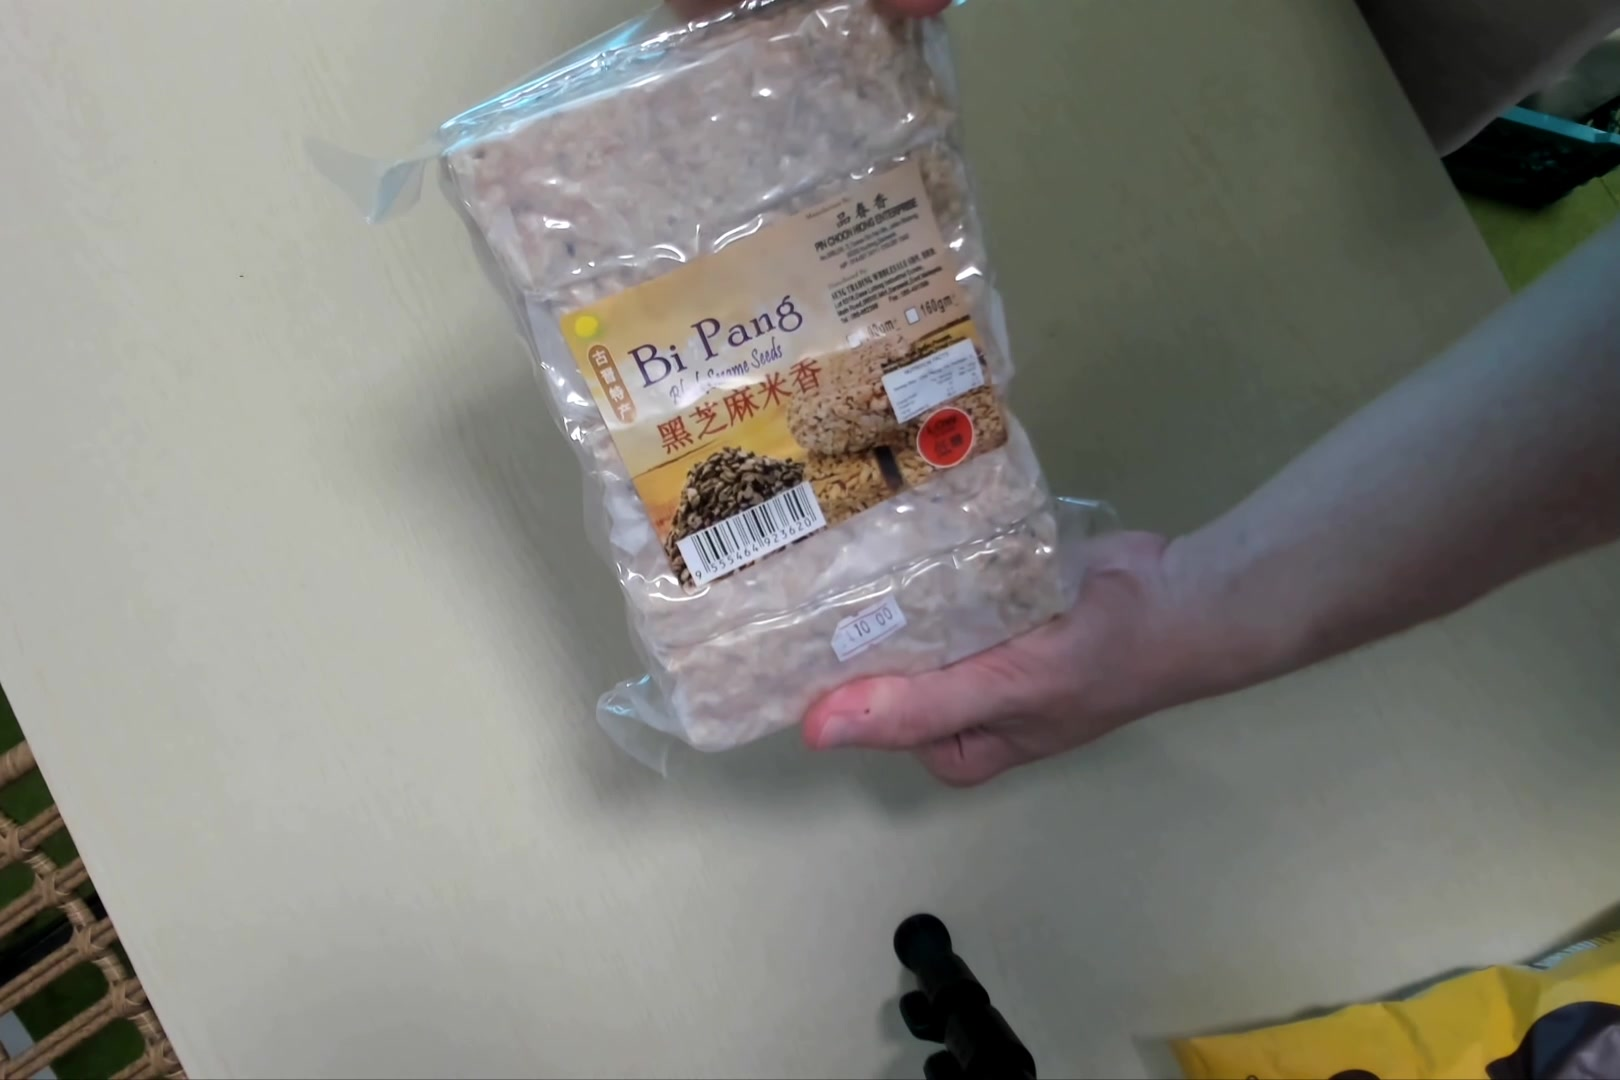PotatoChipsKeropok_100-199g_NonHalal_NonHealthy: (440, 11, 1073, 750)
